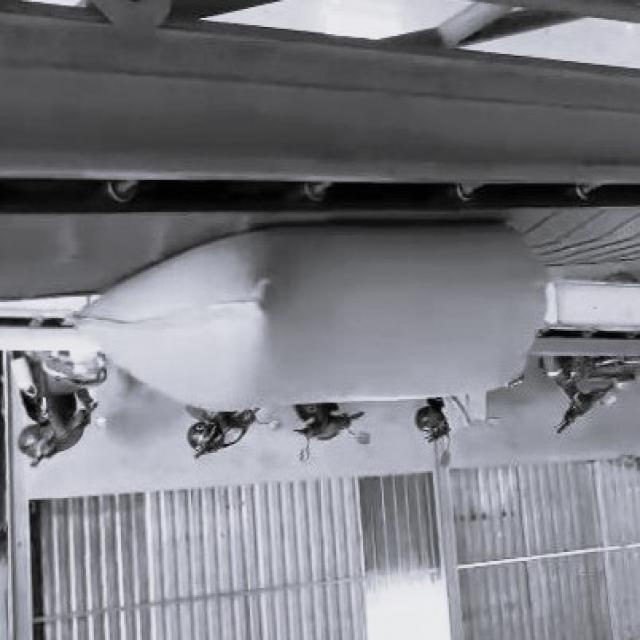gunny_bag: (81, 227, 543, 407)
